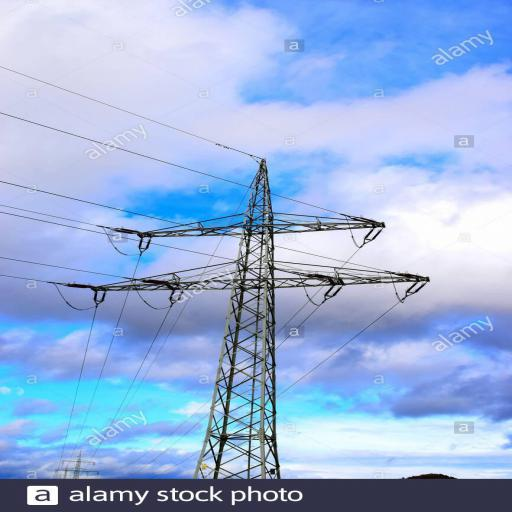ss_2: (77, 151, 437, 483)
